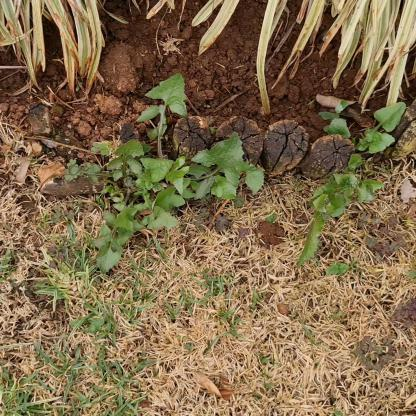Weeds: (61, 72, 266, 269), (296, 101, 407, 272)
